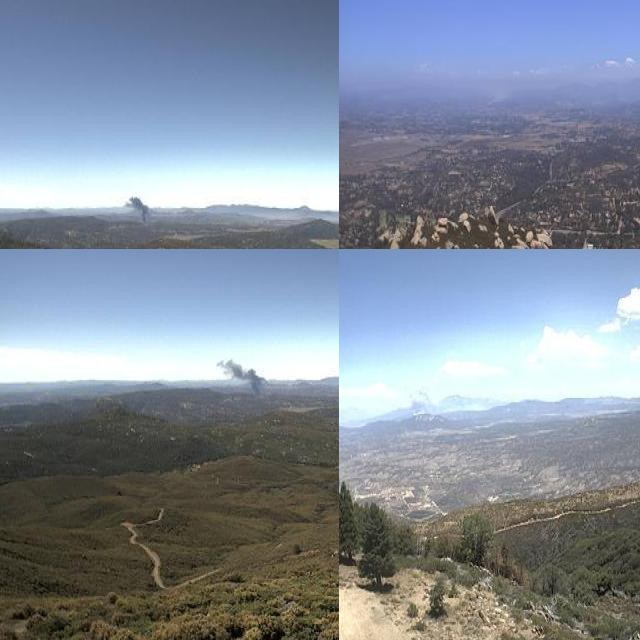smoke: (213, 348, 270, 397), (407, 394, 446, 425), (122, 191, 151, 229)
